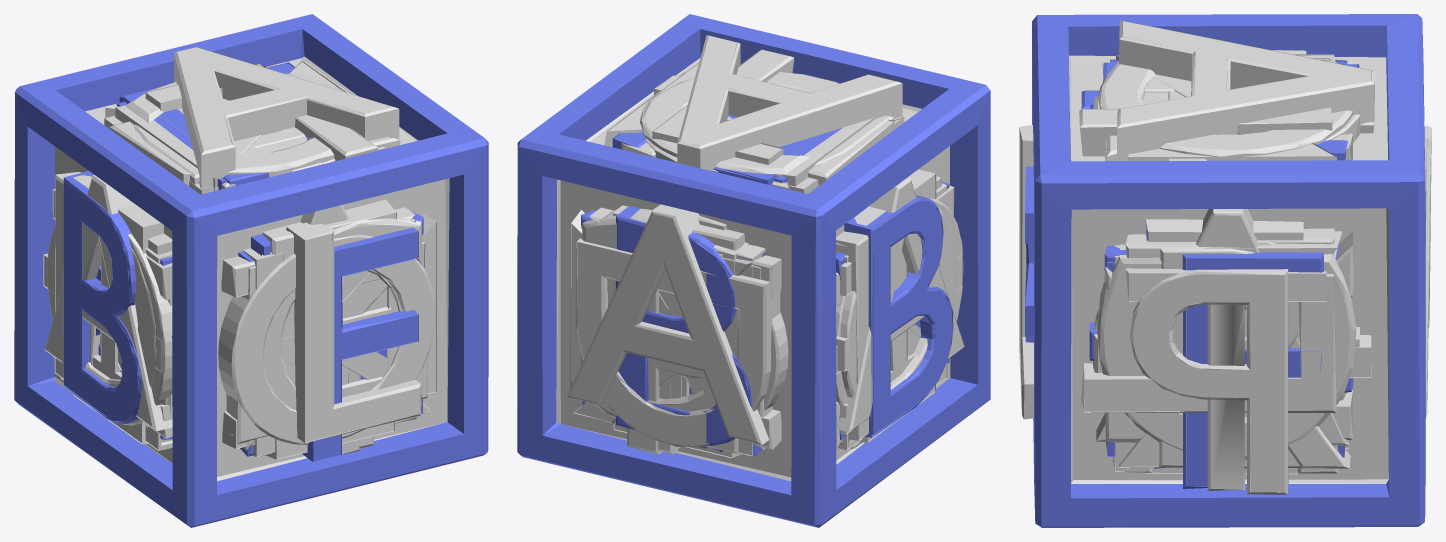
Rendered from CubeToyRefined.fbx.
3 views of the same model, side by side, from view 1: azimuth 30°, elevation 25°; view 2: azimuth 150°, elevation 25°; view 3: azimuth 270°, elevation 25° (orthographic). The views are drawn at different scales.
Parts seen in each view (by area): view 1: CubeBox, Texta, Texto, Textl, Textb, Textf, Texte, Textc, Textd, Textm, Textz, Texth (+4 smaller); view 2: CubeBox, Texta, Textb, Textd, Textc, Textz, Texto, Texte, Textl, Texth, Textk, Textm (+4 smaller); view 3: CubeBox, Texta, Textp, Textl, Textc, Textf, Textt, Textz, Textr, Textk, Texte, Textd (+4 smaller).
Boxes of the visible parts, x1,y1,x2,y2 form: CubeBox: (14, 14, 488, 527); Texta: (45, 47, 426, 435); Texto: (47, 129, 435, 444); Textl: (145, 63, 420, 443); Textb: (63, 86, 386, 424); Textf: (100, 227, 418, 462); Texte: (73, 74, 396, 459); Textc: (125, 73, 423, 410); Textd: (54, 124, 427, 443); Textm: (60, 115, 421, 450); Textz: (100, 61, 436, 450); Texth: (52, 65, 417, 456); CubeBox: (517, 14, 990, 527); Texta: (567, 35, 964, 444); Textb: (616, 115, 953, 445); Textd: (576, 115, 956, 447); Textc: (580, 72, 847, 417); Textz: (570, 62, 941, 450); Texto: (764, 148, 963, 410); Texte: (612, 72, 936, 457); Textl: (652, 49, 794, 230); Texth: (591, 142, 954, 456); Textk: (573, 144, 843, 453); Textm: (585, 117, 947, 450); CubeBox: (1032, 14, 1425, 527); Texta: (1096, 20, 1431, 445); Textp: (1130, 91, 1288, 494); Textl: (1019, 59, 1336, 419); Textc: (1097, 58, 1356, 460); Textf: (1025, 90, 1323, 488); Textt: (1126, 268, 1326, 490); Textz: (1116, 54, 1342, 467); Textr: (1107, 74, 1350, 468); Textk: (1105, 60, 1353, 440); Texte: (1145, 50, 1306, 474); Textd: (1143, 92, 1360, 253).
Bounding box in the file's own units: 18643 × 19790 × 18906.
